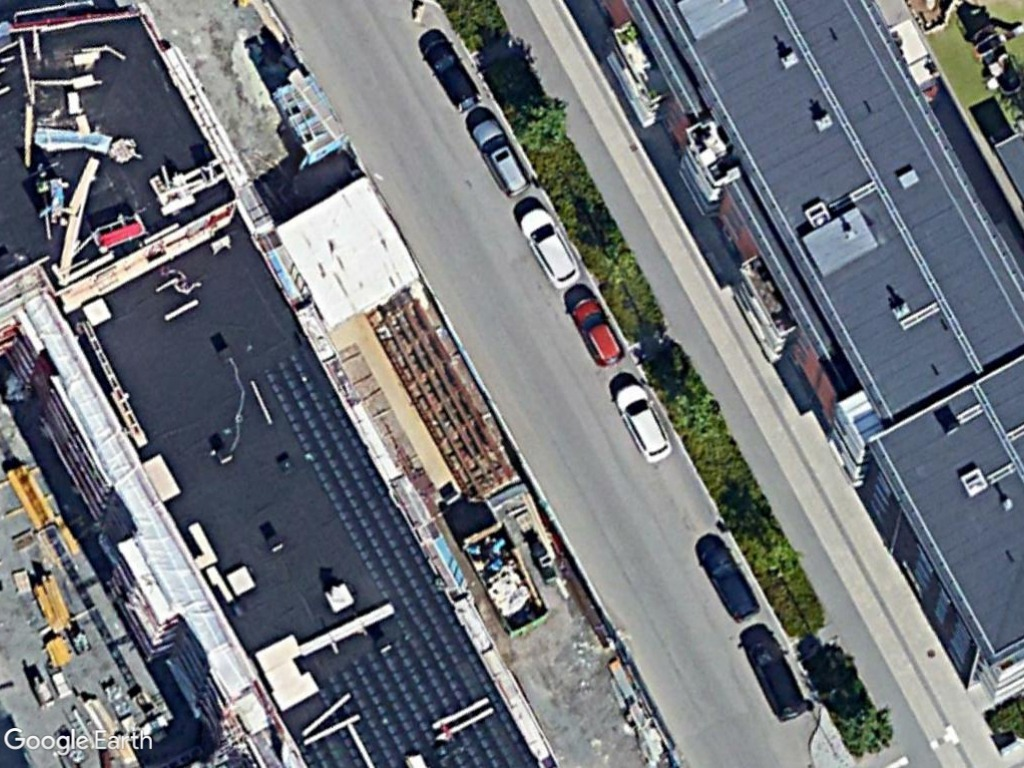car: (742, 633, 812, 726), (517, 205, 585, 292), (417, 33, 485, 115), (701, 534, 760, 627), (612, 380, 675, 465), (469, 114, 530, 201), (570, 296, 625, 368)
